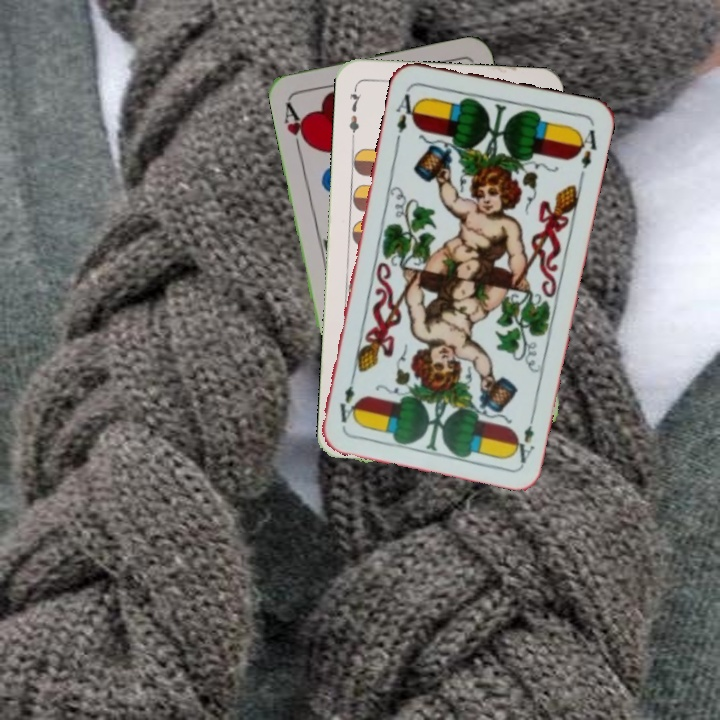E7: (345, 83, 364, 142)
EA: (391, 85, 421, 143), (509, 407, 538, 466)
HA: (280, 98, 313, 155)
